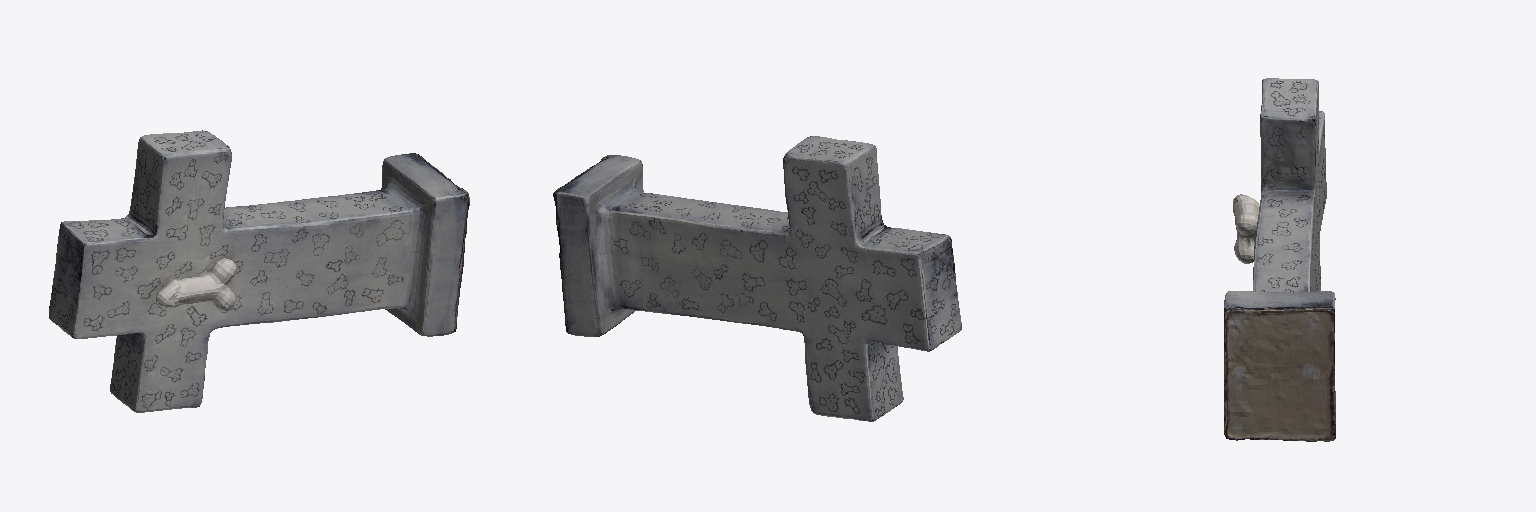
3 views of the same model, side by side, from view 1: azimuth 30°, elevation 25°; view 2: azimuth 150°, elevation 25°; view 3: azimuth 270°, elevation 25° (orthographic).
Parts seen in each view (by area): view 1: default; view 2: default; view 3: default.
Boxes of the visible parts, <box> form: default: <box>49,130,469,412</box>; default: <box>553,136,961,421</box>; default: <box>1224,78,1335,441</box>.
Size of the model in its own units: 35.75 by 23.56 by 9.25.
Materials: 1 (1 with a texture image).